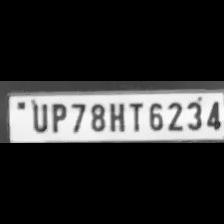2: (164, 99, 184, 131)
3: (184, 98, 202, 132)
4: (204, 98, 222, 130)
6: (144, 100, 164, 132)
7: (66, 100, 86, 134)
8: (88, 100, 106, 132)
H: (107, 100, 127, 132)
P: (48, 100, 68, 134)
T: (126, 100, 144, 132)
U: (27, 100, 49, 134)
